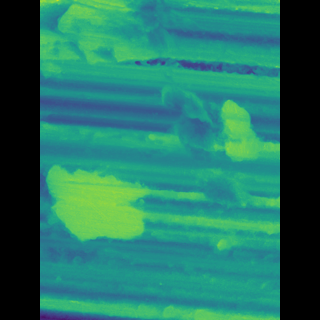Loch: (157, 80, 251, 256), (80, 0, 198, 67), (69, 160, 158, 247), (201, 93, 251, 161)
